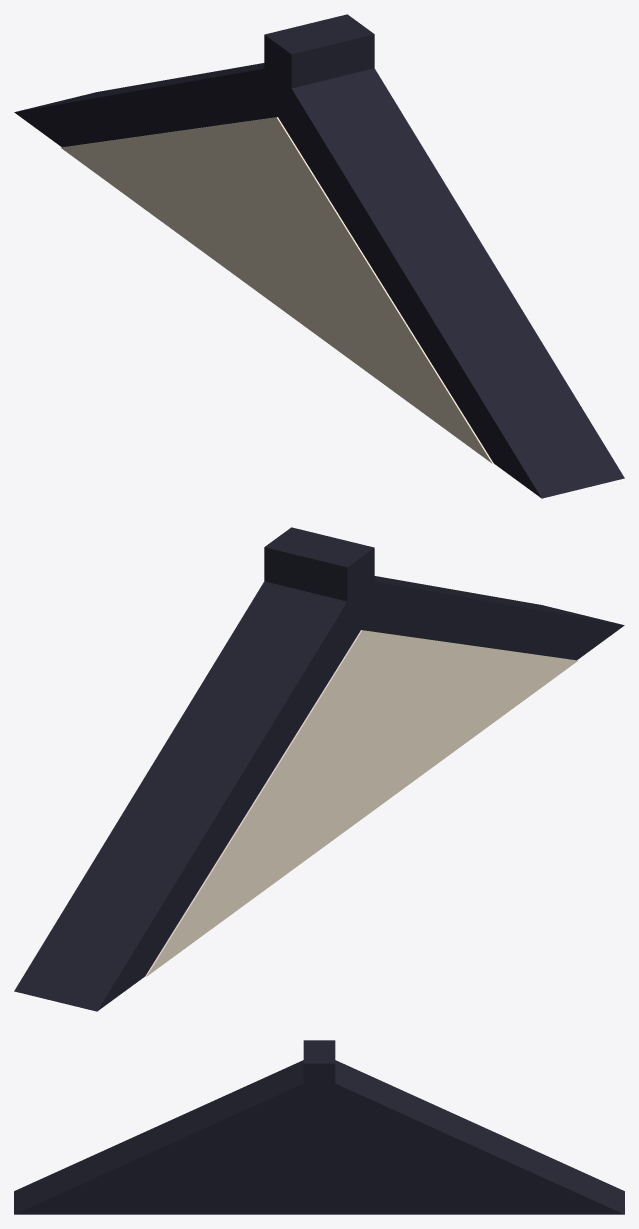
File: hanok_giwa_roof_gable_end.glb
3 views of the same model, one above another, from view 1: azimuth 30°, elevation 25°; view 2: azimuth 150°, elevation 25°; view 3: azimuth 270°, elevation 25° (orthographic). The views are drawn at different scales.
Visible parts, largest first — view 1: hanok_giwa_roof_gable_end; view 2: hanok_giwa_roof_gable_end; view 3: hanok_giwa_roof_gable_end.
Boxes of the visible parts, x1=… form: hanok_giwa_roof_gable_end: x1=14, y1=14, x2=624, y2=498; hanok_giwa_roof_gable_end: x1=14, y1=527, x2=624, y2=1011; hanok_giwa_roof_gable_end: x1=14, y1=1040, x2=624, y2=1214.
Bounding box in the file's own units: 0.61 × 1.8 × 6.6.
